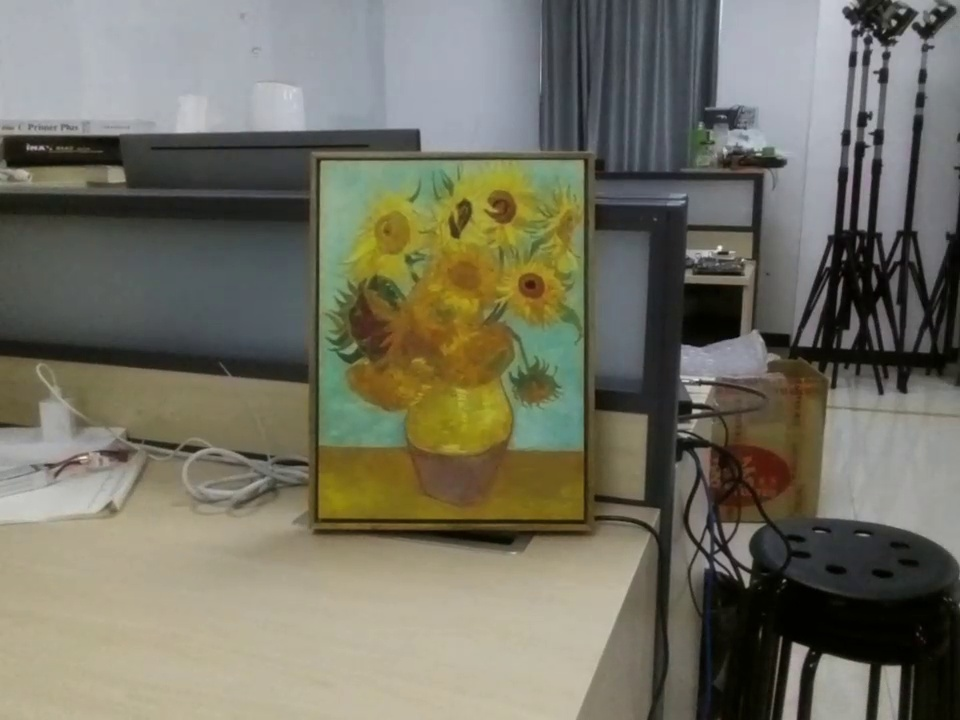painting: (308, 151, 605, 538)
